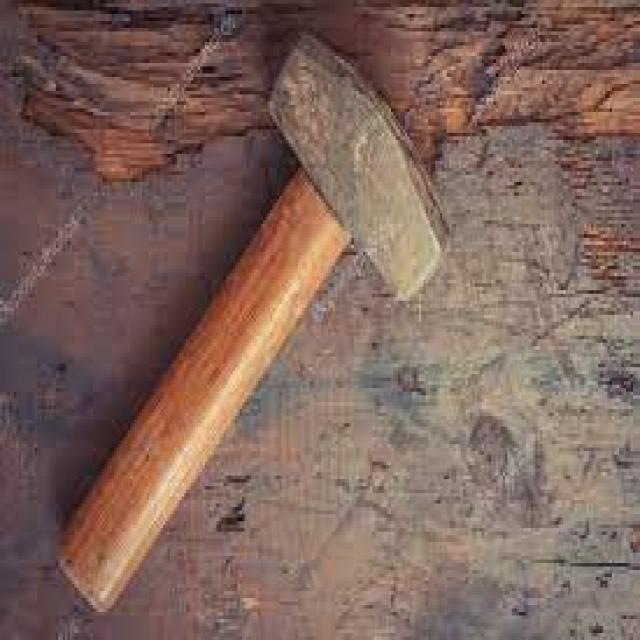hammer: (49, 20, 458, 622)
